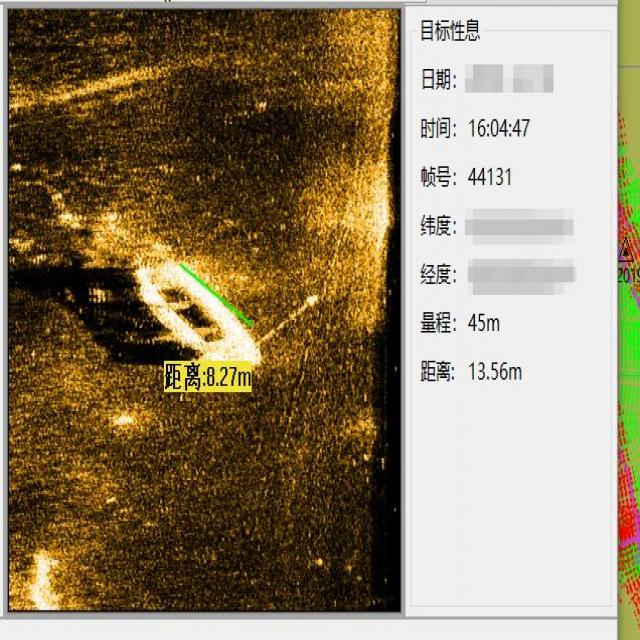shipwreck: (127, 258, 260, 374)
